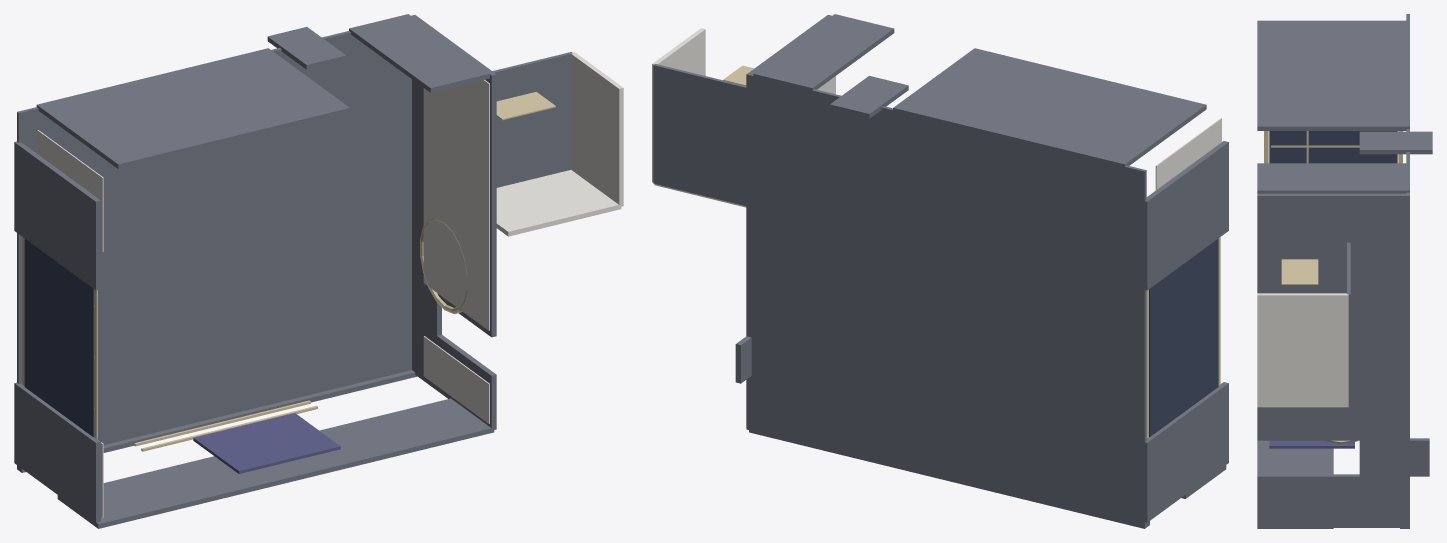
Rendered from space_suite_shell.glb.
The picture shows the model from 3 angles, left to right: view 1: azimuth 30°, elevation 25°; view 2: azimuth 150°, elevation 25°; view 3: azimuth 270°, elevation 25°; orthographic projection. The views are drawn at different scales.
Visible parts, largest first — view 1: SpaceSuiteShell; view 2: SpaceSuiteShell; view 3: SpaceSuiteShell.
Boxes of the visible parts, x1,y1,x2,y2 form: SpaceSuiteShell: (14,14,623,528); SpaceSuiteShell: (652,14,1228,528); SpaceSuiteShell: (1257,14,1432,528).
Bounding box in the file's own units: 18.67 × 12.16 × 5.75.
